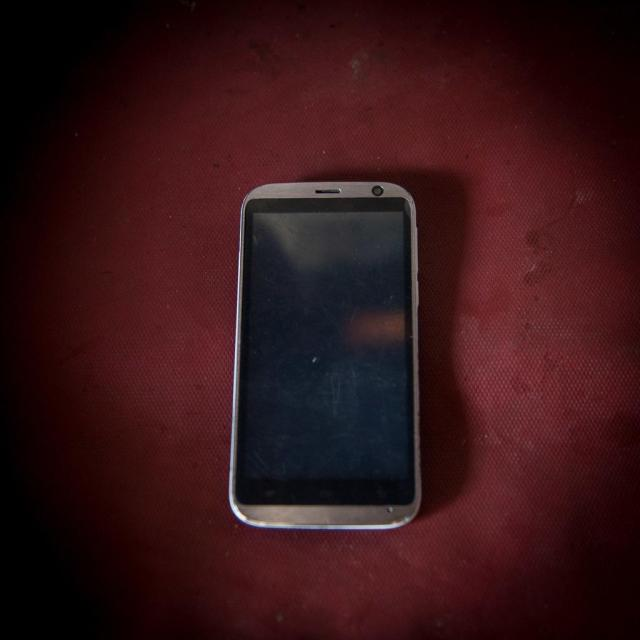Phone: (228, 176, 424, 532)
